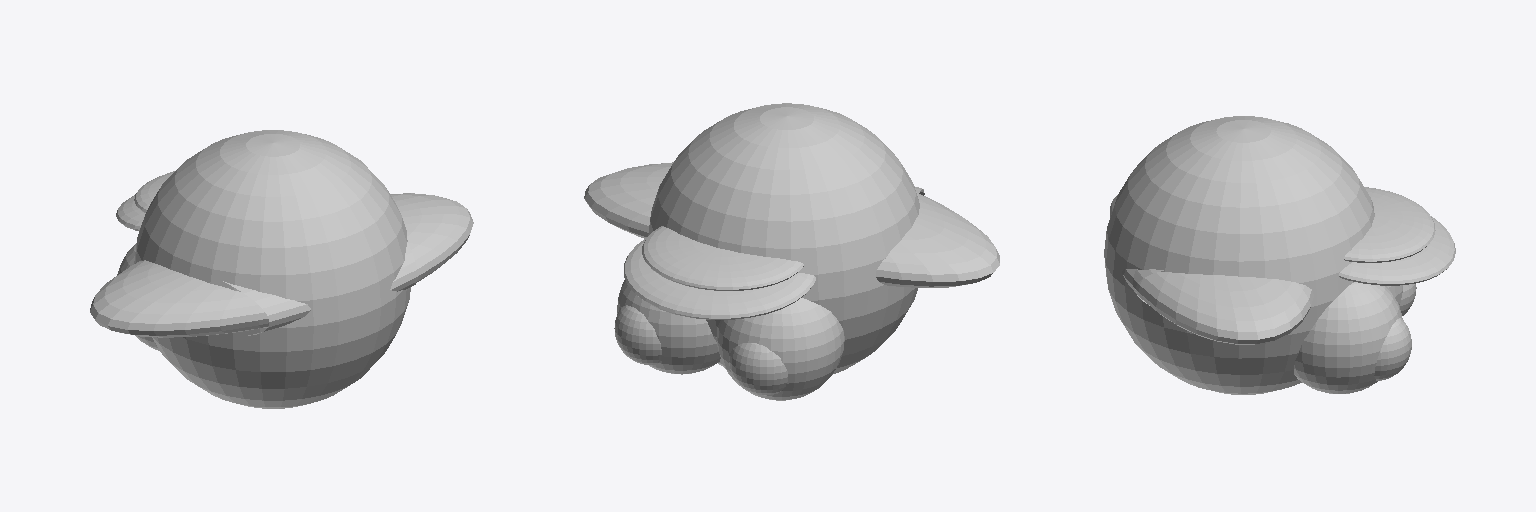
The model's file is bird.obj.
3 views of the same model, side by side, from view 1: azimuth 30°, elevation 25°; view 2: azimuth 150°, elevation 25°; view 3: azimuth 270°, elevation 25° (orthographic).
Visible parts, largest first — view 1: AnyConv.com__scene; view 2: AnyConv.com__scene; view 3: AnyConv.com__scene.
Boxes of the visible parts, <box> form: AnyConv.com__scene: <box>90,130,473,408</box>; AnyConv.com__scene: <box>584,103,999,400</box>; AnyConv.com__scene: <box>1104,116,1455,394</box>.
Size of the model in its own units: 4.64 by 2.9 by 3.66.